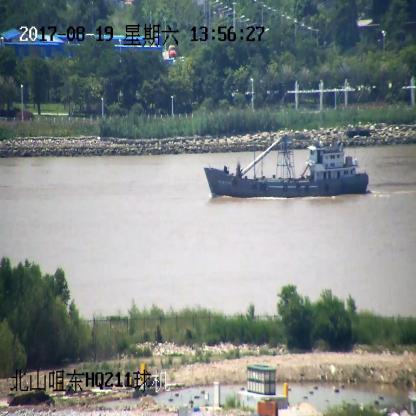Fishing Boat: (205, 133, 369, 198)
